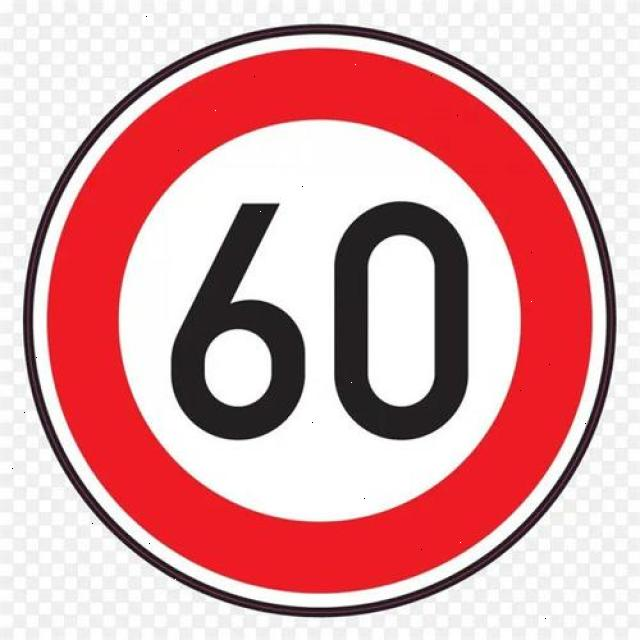speed limit 60: (23, 21, 618, 620)
